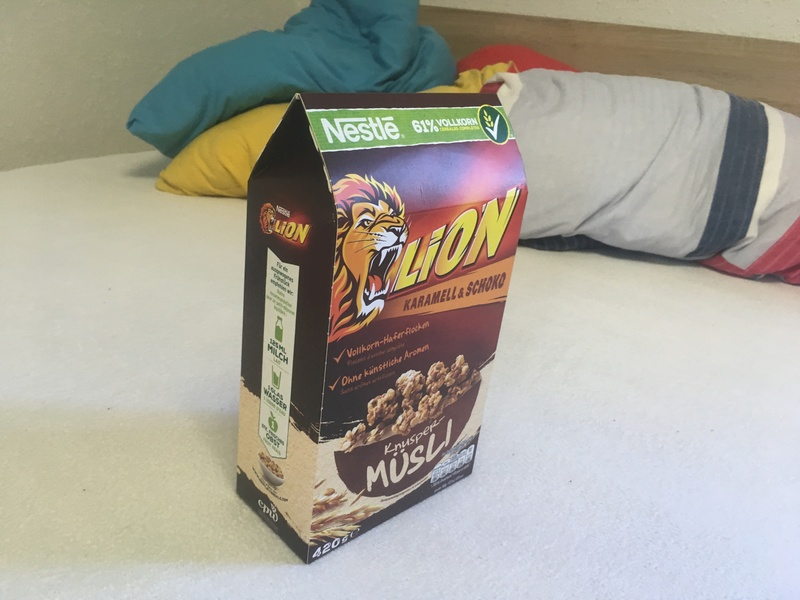cereals: (235, 93, 528, 566)
